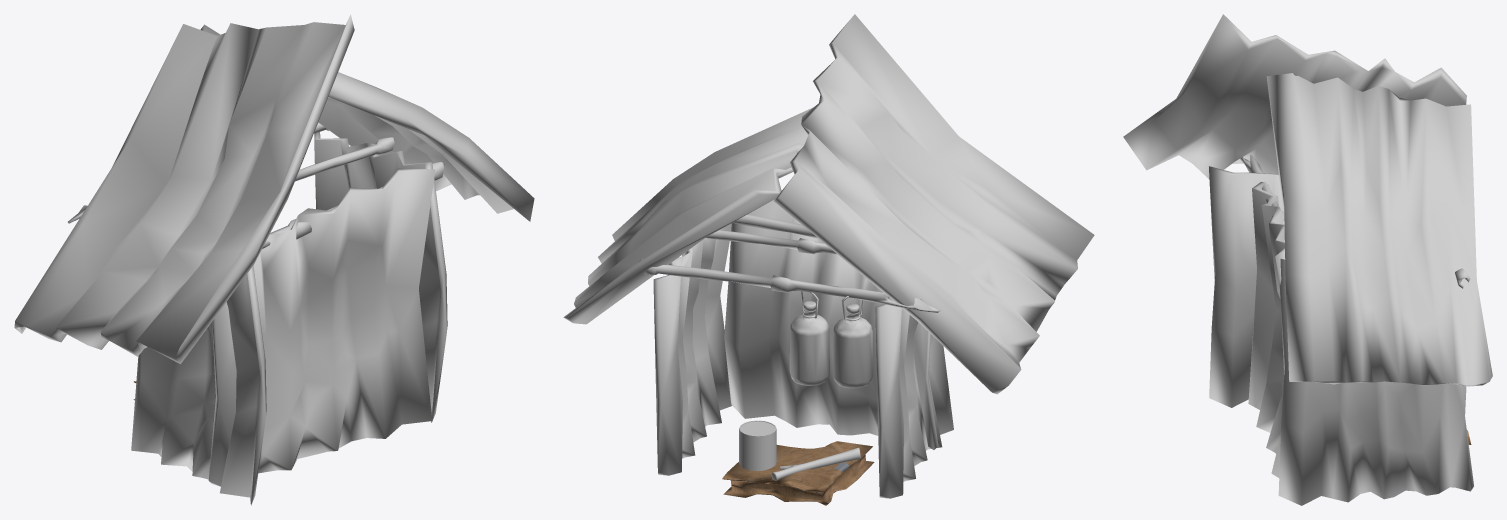
File: menacingDogHouse.fbx
The picture shows the model from 3 angles, left to right: view 1: azimuth 30°, elevation 25°; view 2: azimuth 150°, elevation 25°; view 3: azimuth 270°, elevation 25°; orthographic projection. The views are drawn at different scales.
Visible parts, largest first — view 1: Corrugated Roof.008, Corrugated Roof.005, Corrugated Roof.006, Corrugated Roof.010, Corrugated Roof.007, Pipe.003, Pipe.004; view 2: Corrugated Roof.008, Corrugated Roof.005, Corrugated Roof.010, Corrugated Roof.007, Corrugated Roof.006, cardboard.003, Pipe.002, MalkBottle.003, MalkBottle.002, CanBeans.003, Pipe.003, stick.002 (+1 smaller); view 3: Corrugated Roof.010, Corrugated Roof.007, Corrugated Roof.008, Corrugated Roof.006, Corrugated Roof.005.
Part boxes in pixels (bbox=[...]): Corrugated Roof.008: bbox=[14, 14, 354, 364]; Corrugated Roof.005: bbox=[208, 168, 435, 486]; Corrugated Roof.006: bbox=[131, 265, 266, 505]; Corrugated Roof.010: bbox=[200, 24, 534, 221]; Corrugated Roof.007: bbox=[314, 132, 447, 422]; Pipe.003: bbox=[295, 137, 394, 181]; Pipe.004: bbox=[262, 161, 444, 249]; Corrugated Roof.008: bbox=[774, 14, 1094, 394]; Corrugated Roof.005: bbox=[724, 199, 938, 449]; Corrugated Roof.010: bbox=[563, 107, 813, 324]; Corrugated Roof.007: bbox=[653, 223, 731, 475]; Corrugated Roof.006: bbox=[875, 304, 953, 498]; cardboard.003: bbox=[722, 441, 874, 505]; Pipe.002: bbox=[639, 258, 940, 312]; MalkBottle.003: bbox=[789, 291, 829, 385]; MalkBottle.002: bbox=[833, 296, 872, 388]; CanBeans.003: bbox=[739, 420, 776, 471]; Pipe.003: bbox=[705, 230, 836, 254]; stick.002: bbox=[771, 447, 860, 480]; Corrugated Roof.010: bbox=[1266, 73, 1492, 386]; Corrugated Roof.007: bbox=[1278, 259, 1473, 505]; Corrugated Roof.008: bbox=[1123, 14, 1466, 179]; Corrugated Roof.006: bbox=[1209, 166, 1283, 407]; Corrugated Roof.005: bbox=[1248, 182, 1285, 477].
Bounding box in the file's own units: 294 × 263 × 202.
